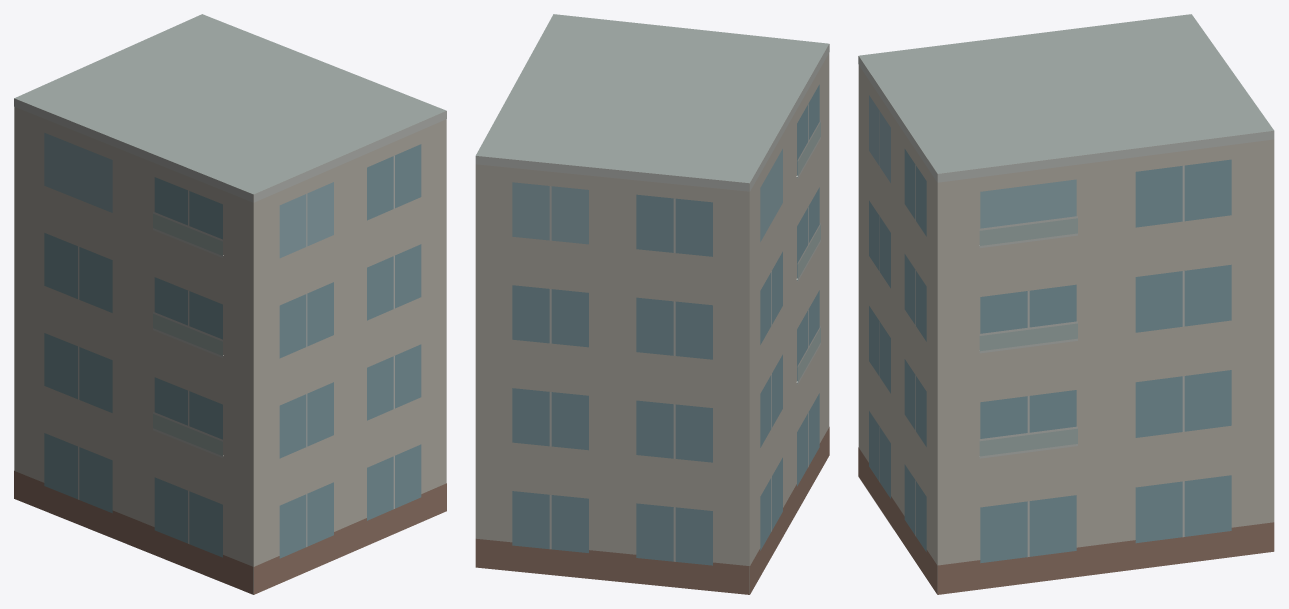
The model's file is survey-upis-32462522.glb.
3 renders of one model, left to right at view 1: azimuth 30°, elevation 25°; view 2: azimuth 150°, elevation 25°; view 3: azimuth 270°, elevation 25°, orthographic. The views are drawn at different scales.
Parts seen in each view (by area): view 1: survey-upis-32462522.tmp; view 2: survey-upis-32462522.tmp; view 3: survey-upis-32462522.tmp.
Part boxes in pixels (x1,y1,x2,y2): survey-upis-32462522.tmp: (14,14,446,594); survey-upis-32462522.tmp: (475,14,829,594); survey-upis-32462522.tmp: (858,14,1274,594).
Size of the model in its own units: 9.6 by 11.76 by 10.54.
